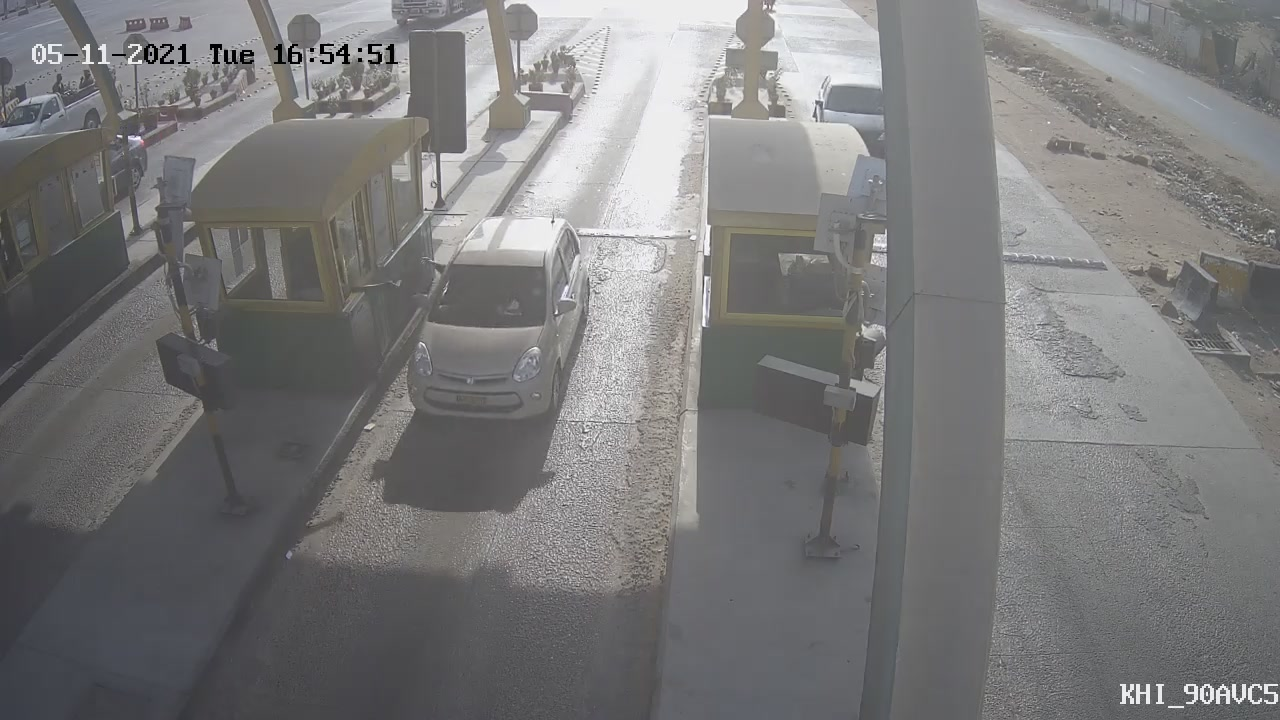F1: (386, 200, 609, 433)
